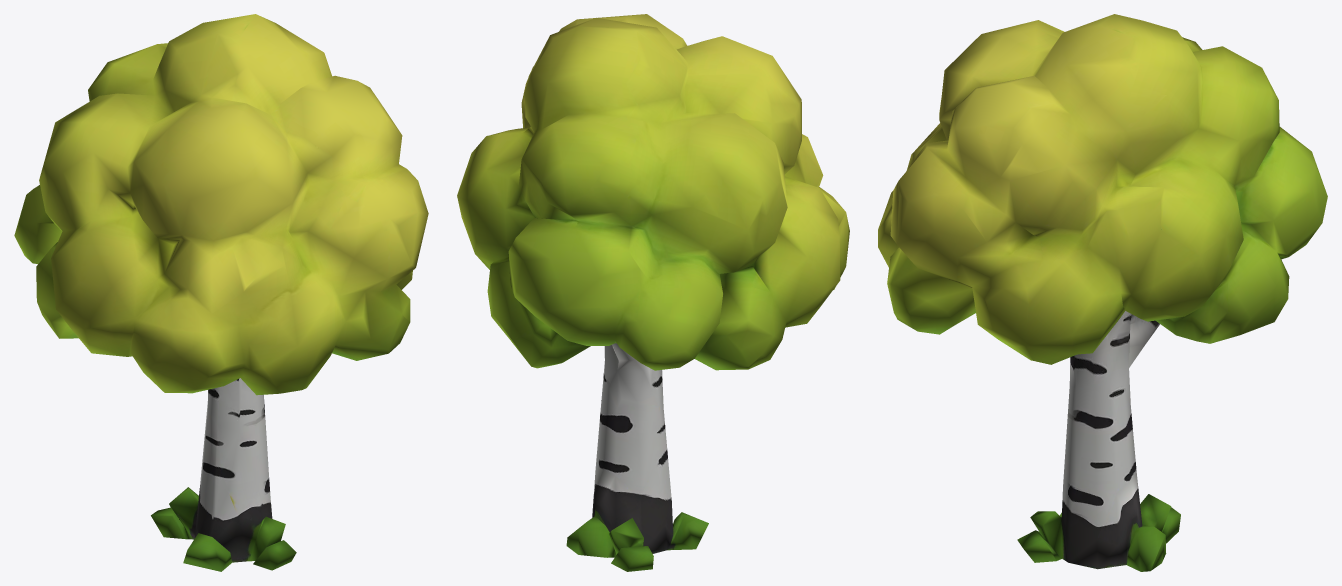
Rendered from tree-birch.glb.
3 renders of one model, left to right at view 1: azimuth 30°, elevation 25°; view 2: azimuth 150°, elevation 25°; view 3: azimuth 270°, elevation 25°, orthographic. The views are drawn at different scales.
Visible parts, largest first — view 1: tripo_node_800213d1-b4c1-4a42-a7c9-eb5c12de51ce; view 2: tripo_node_800213d1-b4c1-4a42-a7c9-eb5c12de51ce; view 3: tripo_node_800213d1-b4c1-4a42-a7c9-eb5c12de51ce.
Part boxes in pixels (x1,y1,x2,y2): tripo_node_800213d1-b4c1-4a42-a7c9-eb5c12de51ce: [14, 14, 428, 571]; tripo_node_800213d1-b4c1-4a42-a7c9-eb5c12de51ce: [457, 14, 849, 571]; tripo_node_800213d1-b4c1-4a42-a7c9-eb5c12de51ce: [878, 14, 1327, 571].
Size of the model in its own units: 0.694 by 0.999 by 0.7654.
1 material, 1 textured.
